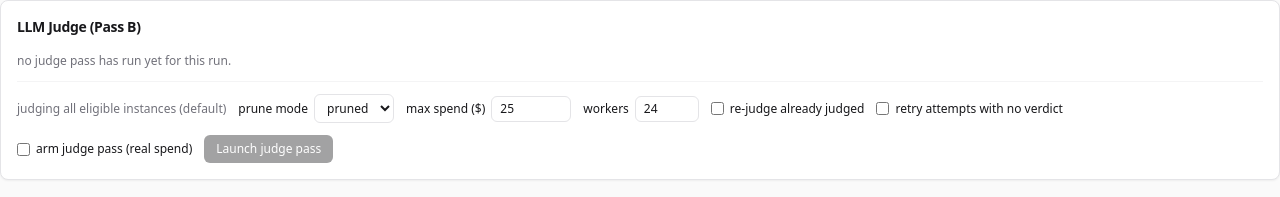
Test: JudgeLaunchCard — confirm gate cannot be bypassed › changing prune mode re-arms the confirm — a stale estimate cannot cover a different request
Click the checkbox labelled "arm judge pass" at (24, 149), box [17,142,30,156]
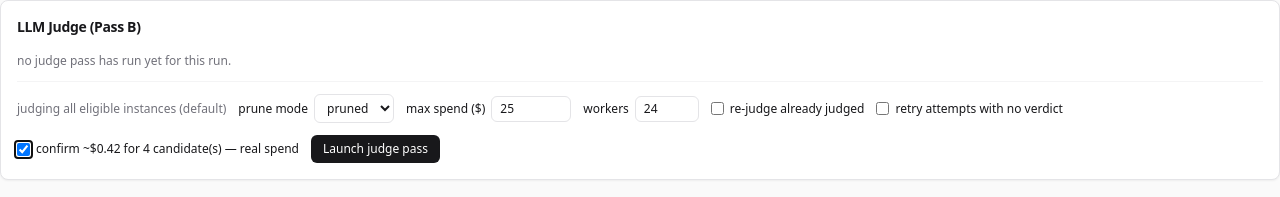
Result: the checkbox named "arm judge pass" is checked at [17,142,30,156]
Select "full" in the dropdown labelled "prune mode" at (354, 108), box [314,94,394,123]
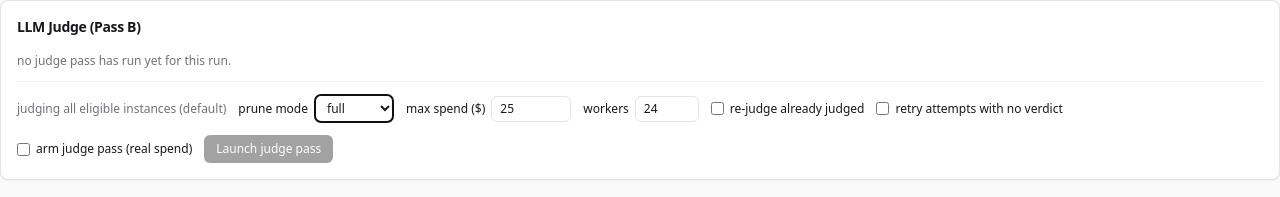
Result: the checkbox labelled "arm judge pass" is not checked at [17,142,30,156]
Result: the button "Launch judge pass" is disabled at [204,135,333,163]
